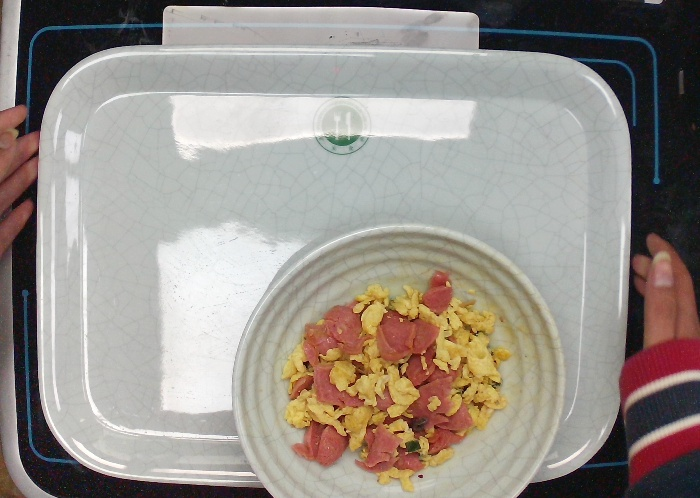JYsf-Da_Tang_Wan: (223, 219, 574, 494)
